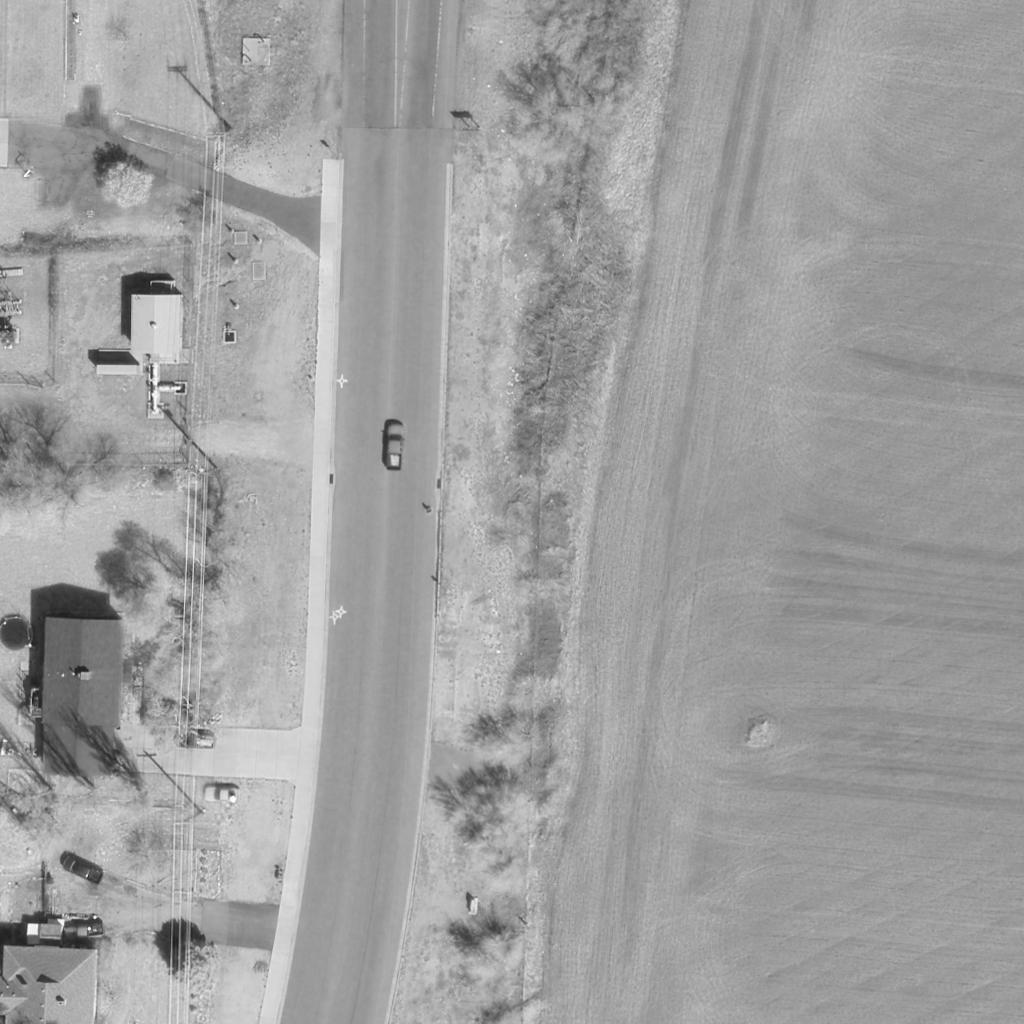vehicle: (60, 852, 106, 886), (60, 920, 104, 942), (385, 424, 405, 472), (174, 731, 216, 749), (205, 788, 241, 804)
